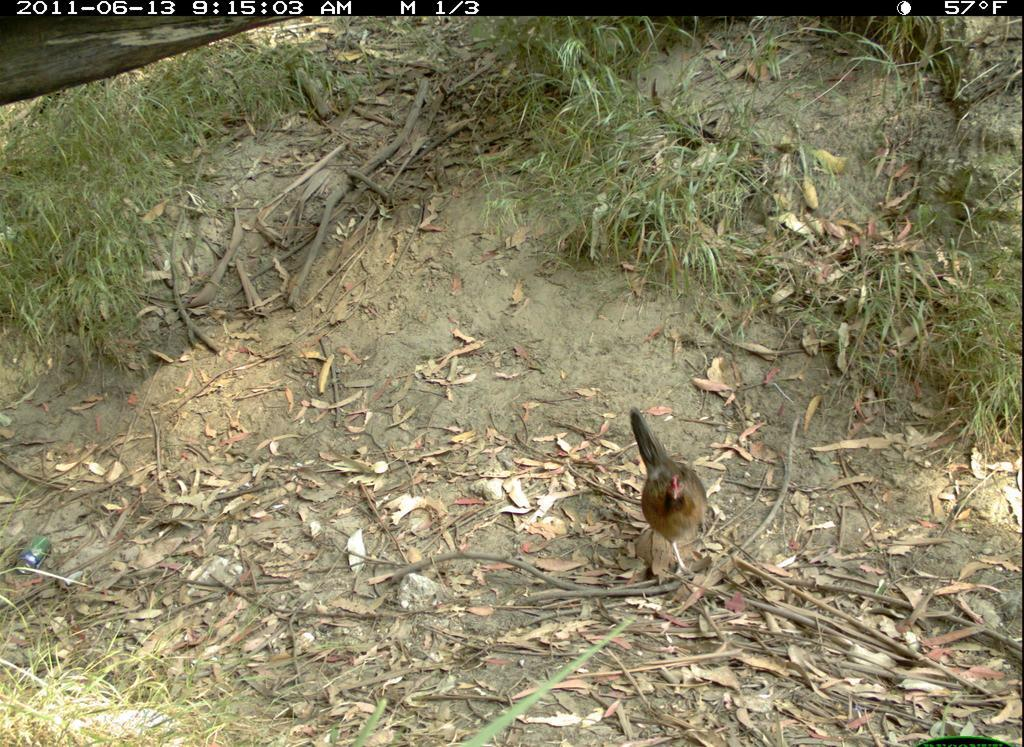bird: (616, 400, 722, 582)
